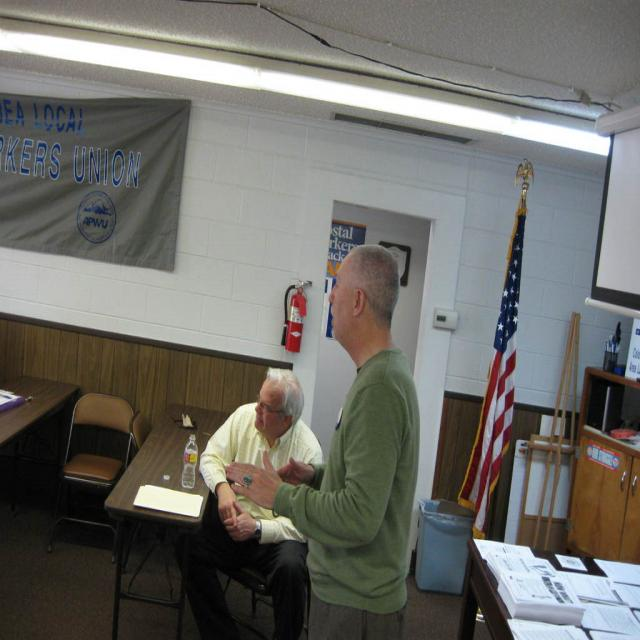chair: (45, 393, 137, 556), (218, 568, 276, 639)
desk: (97, 400, 209, 629)
person: (234, 245, 420, 639), (180, 367, 324, 640)
